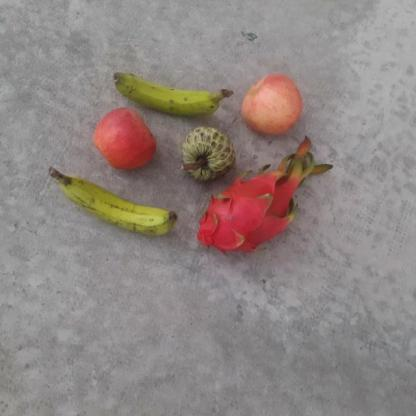annona: (177, 125, 235, 182)
apple: (92, 106, 158, 171), (240, 74, 302, 136)
banana: (59, 166, 179, 238), (111, 65, 228, 118)
pitaya: (193, 173, 295, 257)
